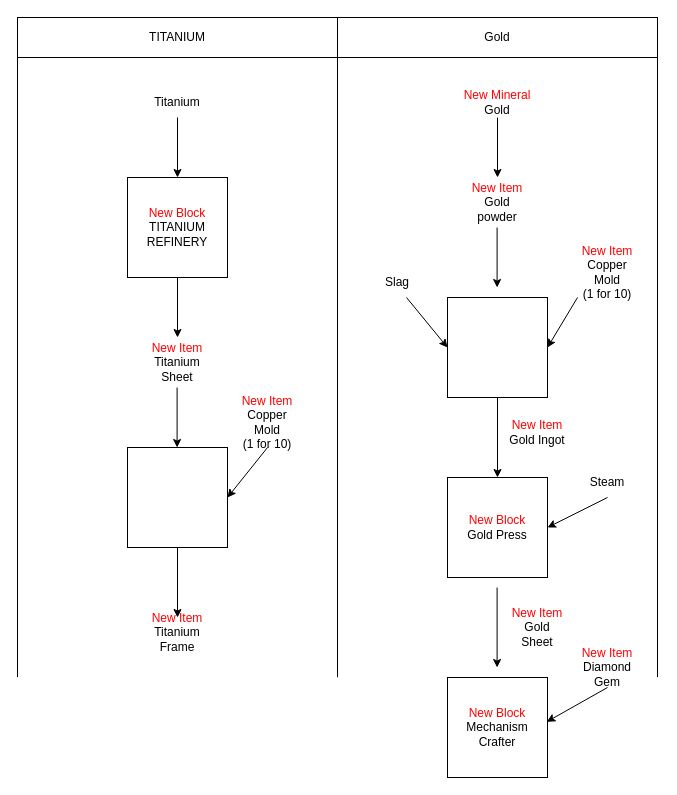
The diagram is 677 pixels wide and 795 high, and some of its shapes have lost their labels. The shapes that lost their labels are listed below. From the top down, each one's centre as x and y in pixels, then its label:
point 497,347: New Block Gold Foundry
point 177,497: New Block TITANIUM MOLDER
